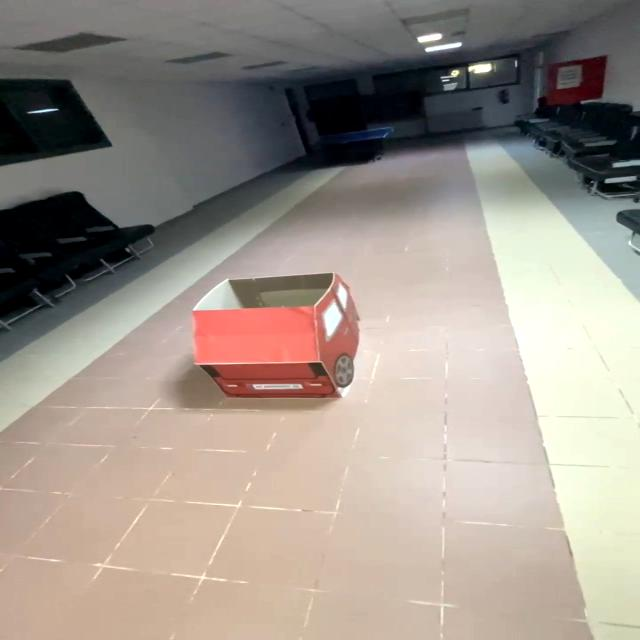red_car: (169, 244, 375, 422)
